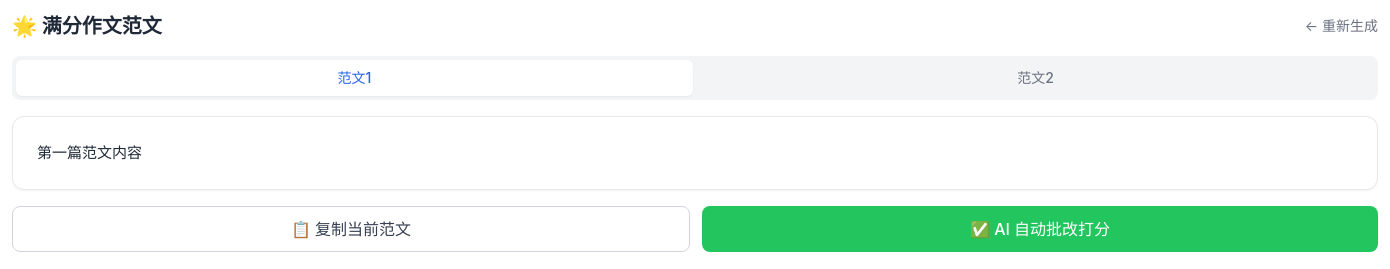
Test: EssayViewer 组件 › 切换 Tab 应显示对应范文
This screenshot has width=1390, height=269.
Expected: the text "第一篇范文内容" is shown, top-left (37, 143), bottom-right (142, 162)
Click the button "范文2" at [1036, 78], box top-left (697, 60), bottom-right (1374, 96)
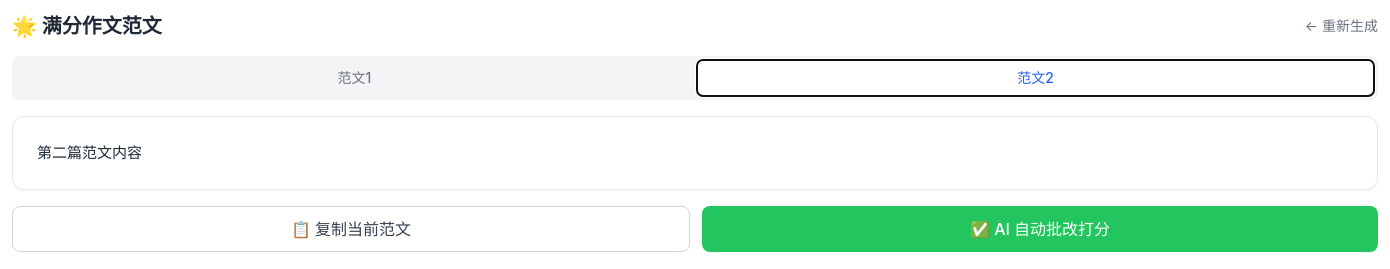
Now the text "第二篇范文内容" is shown, box top-left (37, 143), bottom-right (142, 162)
